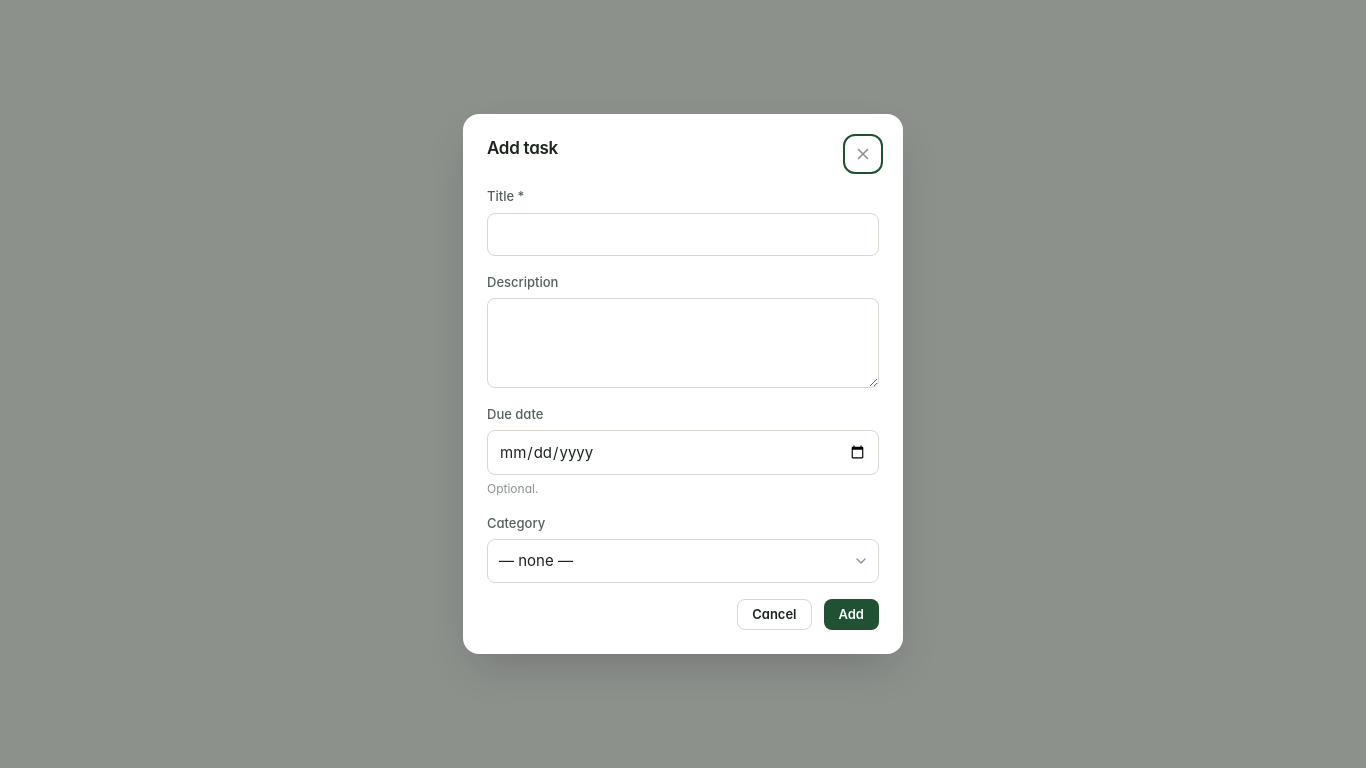
Test case: TaskDialog › surfaces a field validation error
The image size is (1366, 768).
Type "x" into the field labelled "Title *" at (683, 234), box [487,212,879,256]
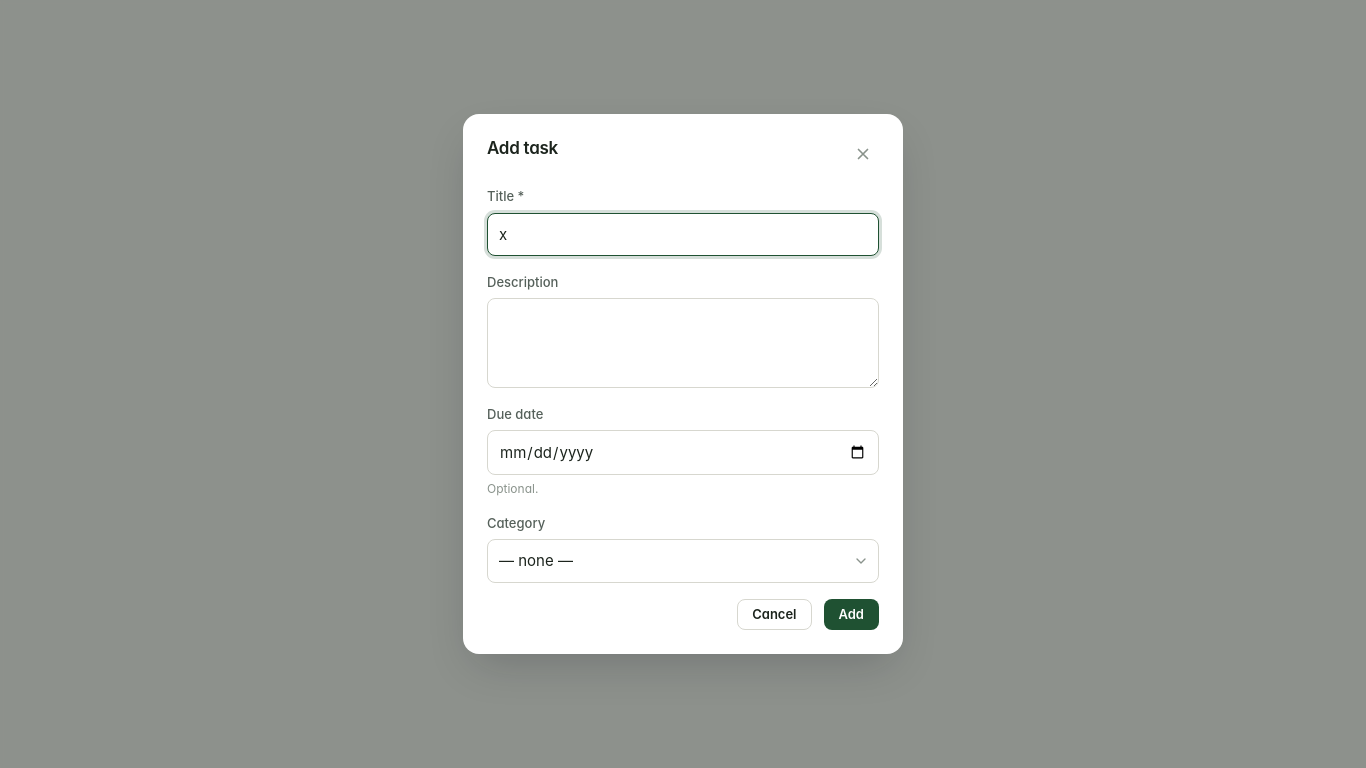
Click the button "Add" at (851, 614), box [824,599,879,630]
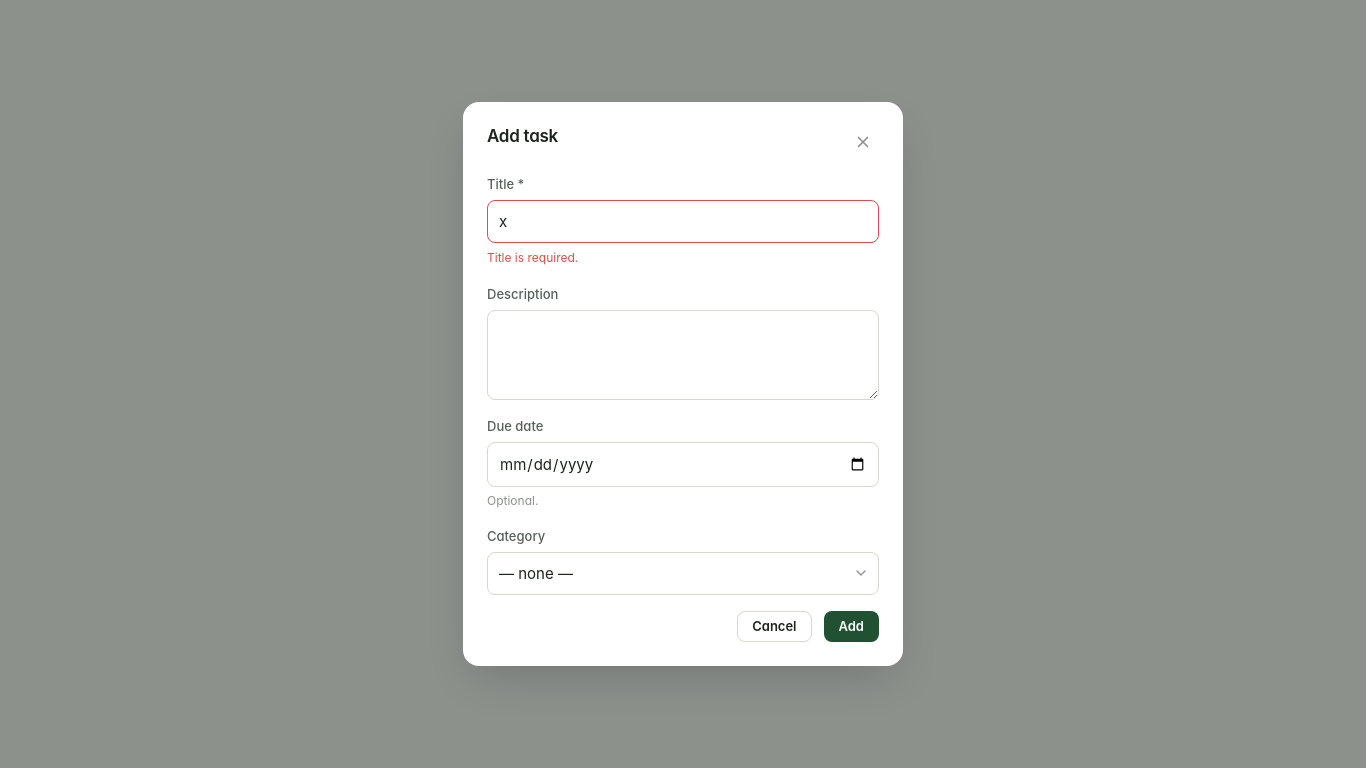
Expected: the text "Title is required." is shown, [487,250,578,266]
